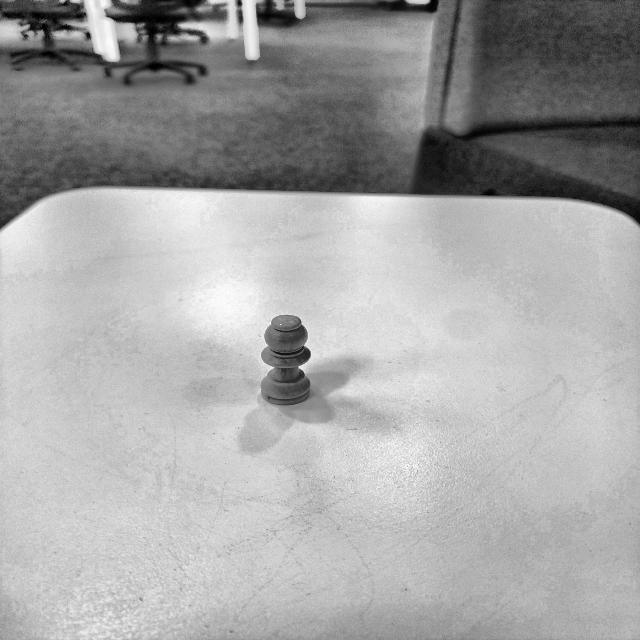white-bishop: (261, 315, 312, 406)
